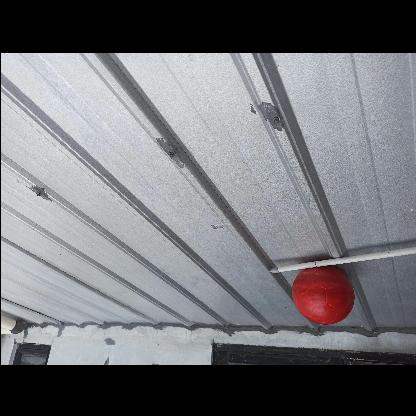red_ball: (290, 264, 354, 328)
